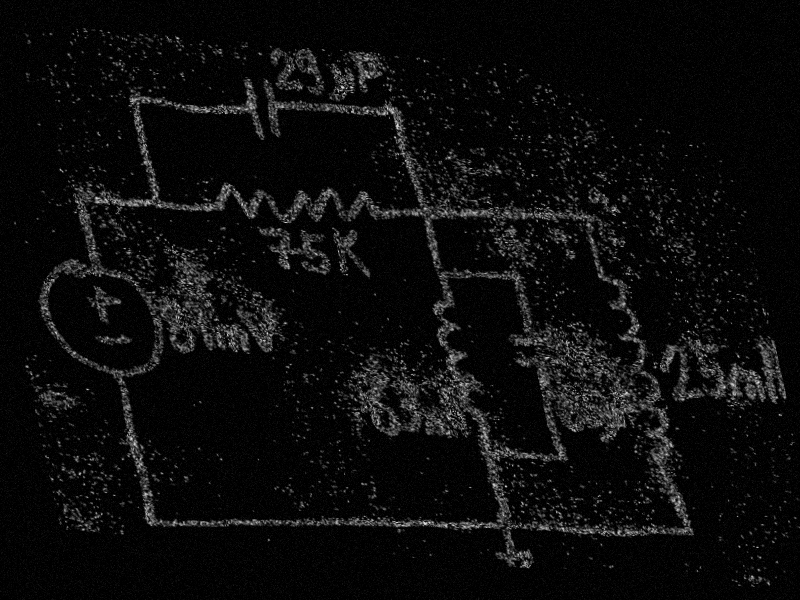-: (89, 331, 134, 349)
2: (654, 339, 707, 408), (263, 46, 306, 95)
3: (390, 380, 431, 437)
5: (688, 338, 732, 404), (295, 229, 337, 281), (578, 387, 607, 430)
6: (357, 367, 405, 440)
7: (252, 222, 308, 280)
8: (155, 297, 202, 362), (551, 380, 589, 435)
9: (292, 46, 332, 98)
F: (350, 51, 388, 96), (610, 389, 639, 432)
H: (755, 339, 788, 405), (441, 401, 471, 440)
V: (243, 306, 288, 355)
k: (325, 223, 376, 283)
m: (196, 318, 255, 357), (722, 361, 770, 408), (420, 413, 453, 438)
u: (325, 63, 362, 103), (599, 403, 624, 443)
